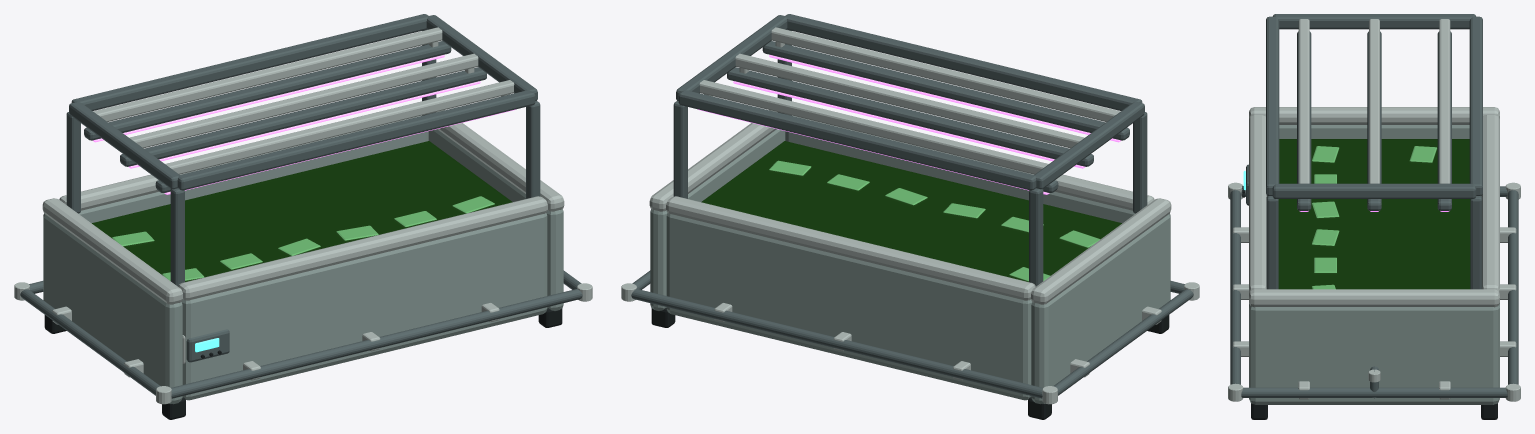
Rendered from Bac de propagation d algues sous ultraviolet.glb.
The picture shows the model from 3 angles, left to right: view 1: azimuth 30°, elevation 25°; view 2: azimuth 150°, elevation 25°; view 3: azimuth 270°, elevation 25°; orthographic projection. The views are drawn at different scales.
Parts seen in each view (by area): view 1: 23_uv_algae_propagation_vat_Vat_Wall_Front, 23_uv_algae_propagation_vat_Water_Surface, 23_uv_algae_propagation_vat_Vat_Wall_Left, 23_uv_algae_propagation_vat_Reinforced_Rim_Front, 23_uv_algae_propagation_vat_UV_Roof_End_Rail_-1, 23_uv_algae_propagation_vat_UV_Roof_End_Rail_1, 23_uv_algae_propagation_vat_UV_Roof_Crossbeam_2, 23_uv_algae_propagation_vat_UV_Roof_Crossbeam_3, 23_uv_algae_propagation_vat_UV_Light_Housing_3, 23_uv_algae_propagation_vat_UV_Roof_Crossbeam_1, 23_uv_algae_propagation_vat_UV_Light_Housing_2, 23_uv_algae_propagation_vat_Perimeter_Front (+14 smaller); view 2: 23_uv_algae_propagation_vat_Vat_Wall_Rear, 23_uv_algae_propagation_vat_Water_Surface, 23_uv_algae_propagation_vat_Vat_Wall_Left, 23_uv_algae_propagation_vat_Reinforced_Rim_Rear, 23_uv_algae_propagation_vat_UV_Roof_End_Rail_1, 23_uv_algae_propagation_vat_UV_Roof_End_Rail_-1, 23_uv_algae_propagation_vat_UV_Roof_Crossbeam_2, 23_uv_algae_propagation_vat_UV_Roof_Crossbeam_1, 23_uv_algae_propagation_vat_UV_Light_Housing_1, 23_uv_algae_propagation_vat_UV_Roof_Crossbeam_3, 23_uv_algae_propagation_vat_UV_Light_Housing_2, 23_uv_algae_propagation_vat_Perimeter_Rear (+13 smaller); view 3: 23_uv_algae_propagation_vat_Water_Surface, 23_uv_algae_propagation_vat_Vat_Wall_Right, 23_uv_algae_propagation_vat_Reinforced_Rim_Right, 23_uv_algae_propagation_vat_UV_Roof_Side_Rail_1, 23_uv_algae_propagation_vat_Reinforced_Rim_Front, 23_uv_algae_propagation_vat_Reinforced_Rim_Rear, 23_uv_algae_propagation_vat_Reinforced_Rim_Left, 23_uv_algae_propagation_vat_Perimeter_Right, 23_uv_algae_propagation_vat_UV_Roof_Side_Rail_-1, 23_uv_algae_propagation_vat_UV_Roof_End_Rail_-1, 23_uv_algae_propagation_vat_UV_Roof_End_Rail_1, 23_uv_algae_propagation_vat_Vat_Wall_Left (+15 smaller).
Part boxes in pixels (x1,y1,x2,y2): 23_uv_algae_propagation_vat_Vat_Wall_Front: [181, 213, 547, 400]; 23_uv_algae_propagation_vat_Water_Surface: [92, 141, 512, 281]; 23_uv_algae_propagation_vat_Vat_Wall_Left: [43, 213, 182, 404]; 23_uv_algae_propagation_vat_Reinforced_Rim_Front: [178, 196, 547, 300]; 23_uv_algae_propagation_vat_UV_Roof_End_Rail_-1: [177, 90, 535, 190]; 23_uv_algae_propagation_vat_UV_Roof_End_Rail_1: [71, 14, 428, 110]; 23_uv_algae_propagation_vat_UV_Roof_Crossbeam_2: [129, 53, 478, 148]; 23_uv_algae_propagation_vat_UV_Roof_Crossbeam_3: [93, 27, 442, 121]; 23_uv_algae_propagation_vat_UV_Light_Housing_3: [84, 41, 451, 140]; 23_uv_algae_propagation_vat_UV_Roof_Crossbeam_1: [165, 80, 514, 174]; 23_uv_algae_propagation_vat_UV_Light_Housing_2: [120, 67, 486, 166]; 23_uv_algae_propagation_vat_Perimeter_Front: [171, 289, 582, 398]; 23_uv_algae_propagation_vat_Vat_Wall_Rear: [666, 213, 1032, 400]; 23_uv_algae_propagation_vat_Water_Surface: [701, 141, 1121, 281]; 23_uv_algae_propagation_vat_Vat_Wall_Left: [1031, 213, 1170, 404]; 23_uv_algae_propagation_vat_Reinforced_Rim_Rear: [666, 196, 1035, 300]; 23_uv_algae_propagation_vat_UV_Roof_End_Rail_1: [678, 90, 1036, 190]; 23_uv_algae_propagation_vat_UV_Roof_End_Rail_-1: [785, 14, 1142, 110]; 23_uv_algae_propagation_vat_UV_Roof_Crossbeam_2: [735, 53, 1084, 148]; 23_uv_algae_propagation_vat_UV_Roof_Crossbeam_1: [771, 27, 1120, 121]; 23_uv_algae_propagation_vat_UV_Light_Housing_1: [762, 41, 1129, 140]; 23_uv_algae_propagation_vat_UV_Roof_Crossbeam_3: [699, 80, 1048, 174]; 23_uv_algae_propagation_vat_UV_Light_Housing_2: [727, 67, 1093, 166]; 23_uv_algae_propagation_vat_Perimeter_Rear: [631, 289, 1042, 398]; 23_uv_algae_propagation_vat_Water_Surface: [1278, 139, 1470, 289]; 23_uv_algae_propagation_vat_Vat_Wall_Right: [1249, 304, 1499, 404]; 23_uv_algae_propagation_vat_Reinforced_Rim_Right: [1249, 289, 1499, 307]; 23_uv_algae_propagation_vat_UV_Roof_Side_Rail_1: [1272, 183, 1476, 198]; 23_uv_algae_propagation_vat_Reinforced_Rim_Front: [1249, 115, 1266, 293]; 23_uv_algae_propagation_vat_Reinforced_Rim_Rear: [1482, 115, 1499, 293]; 23_uv_algae_propagation_vat_Reinforced_Rim_Left: [1249, 107, 1499, 124]; 23_uv_algae_propagation_vat_Perimeter_Right: [1241, 387, 1507, 397]; 23_uv_algae_propagation_vat_UV_Roof_Side_Rail_-1: [1273, 14, 1475, 29]; 23_uv_algae_propagation_vat_UV_Roof_End_Rail_-1: [1266, 16, 1279, 195]; 23_uv_algae_propagation_vat_UV_Roof_End_Rail_1: [1469, 16, 1482, 195]; 23_uv_algae_propagation_vat_Vat_Wall_Left: [1279, 125, 1469, 138].
Size of the model in its own units: 3.72 by 1.89 by 2.22.
